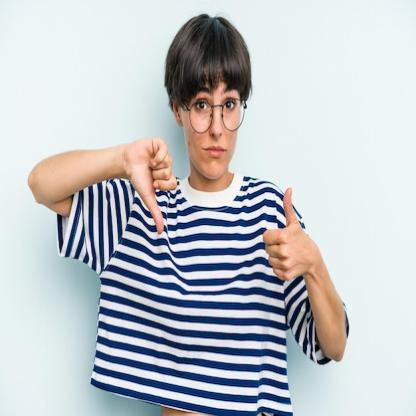thumb_down: (123, 134, 178, 236)
thumb_up: (260, 181, 314, 284)
